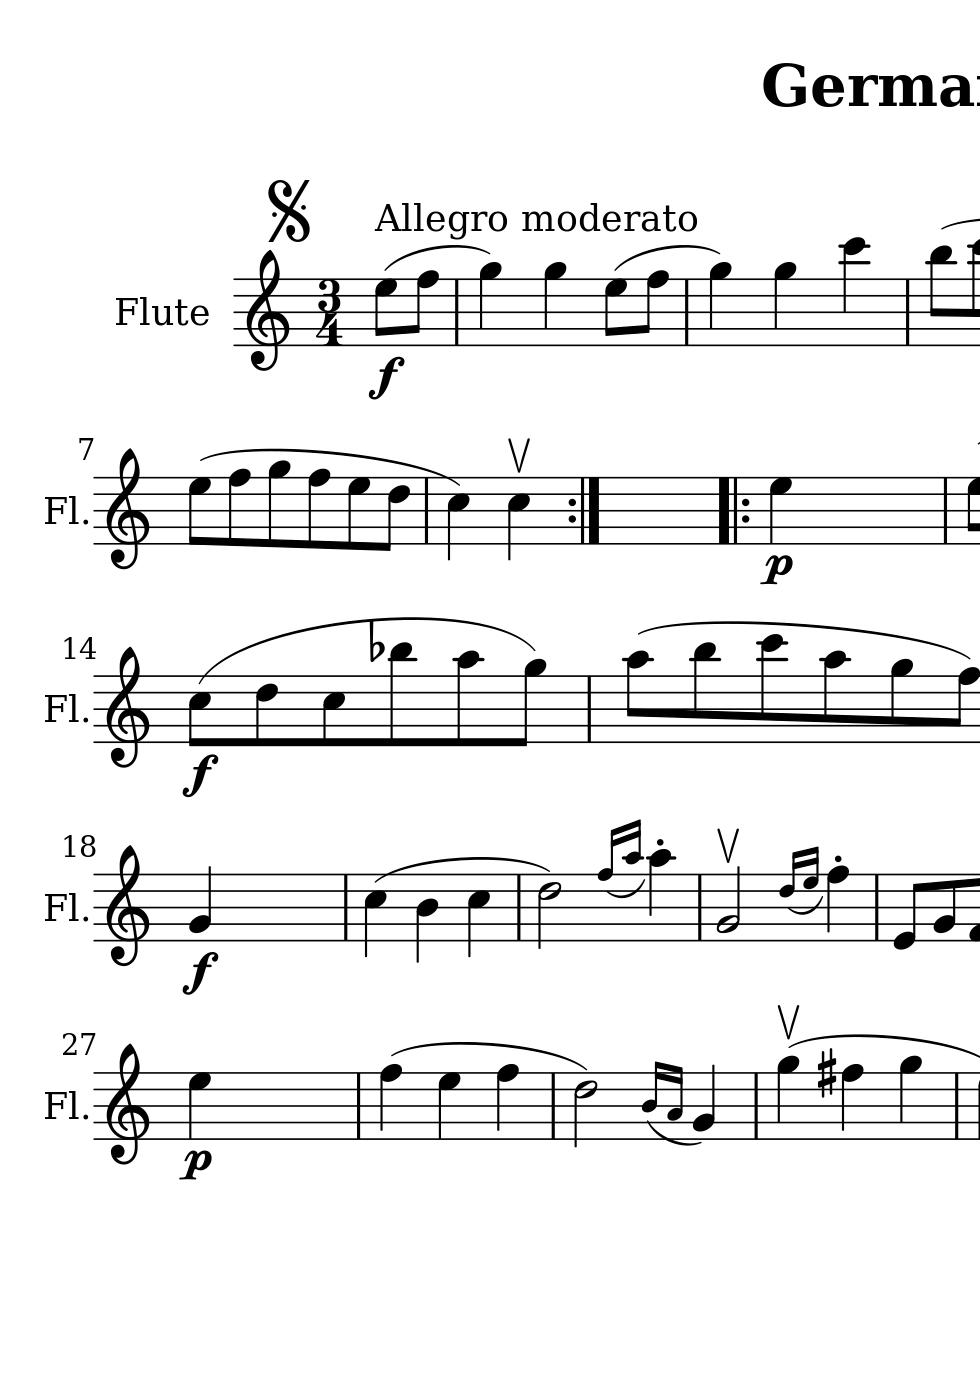1: (62, 831, 76, 860), (62, 634, 76, 662)
2: (60, 1032, 78, 1057)
2_2: (714, 865, 741, 943)
2_6: (571, 1070, 597, 1148), (535, 872, 560, 949)
3: (316, 277, 342, 312)
4: (313, 311, 344, 346), (78, 633, 97, 661)
4_10: (645, 848, 675, 945)
4_12: (838, 236, 870, 350)
4_2: (187, 863, 213, 941), (692, 1062, 716, 1140)
4_4: (413, 873, 439, 967)
4_5: (361, 872, 388, 961), (505, 475, 531, 563), (463, 872, 490, 960), (445, 476, 471, 564)
4_7: (766, 475, 795, 546), (185, 1070, 214, 1141), (435, 1072, 462, 1142)
4_8: (493, 1062, 520, 1142), (377, 1063, 403, 1142), (839, 1063, 865, 1142), (824, 865, 848, 943)
4_9: (771, 261, 799, 349), (541, 261, 567, 348), (706, 261, 733, 348), (897, 1054, 923, 1142), (476, 261, 502, 348), (775, 1054, 800, 1142)
7: (77, 434, 95, 462), (78, 1030, 97, 1057)
8: (78, 831, 97, 860)
8_0: (891, 872, 923, 952)
8_10: (452, 649, 482, 750), (623, 649, 652, 745), (820, 648, 848, 745)
8_11: (387, 641, 415, 750), (927, 243, 956, 348), (690, 641, 718, 745)
8_12: (757, 633, 787, 745)
8_2: (931, 872, 957, 942)
8_5: (320, 674, 346, 749), (187, 674, 211, 749)
8_6: (379, 475, 412, 552), (253, 673, 278, 750)
8_7: (345, 476, 371, 551), (372, 277, 398, 347), (186, 476, 211, 546), (603, 277, 627, 347)
8_8: (408, 269, 441, 348), (638, 268, 670, 348), (948, 664, 979, 745), (226, 467, 252, 548), (305, 467, 331, 550)
8_9: (511, 657, 545, 749), (888, 657, 915, 745), (265, 460, 292, 548)
Appoggiature_2: (595, 819, 645, 940), (778, 846, 821, 942), (641, 1056, 686, 1143)
Fl: (41, 889, 78, 926), (113, 294, 151, 331), (41, 1088, 78, 1124), (42, 691, 78, 727), (41, 492, 78, 527)
Flat: (367, 619, 384, 663)
Gclef: (243, 248, 291, 371), (103, 446, 151, 569), (103, 645, 150, 766), (104, 843, 150, 966), (104, 1043, 150, 1164)
LeftRepeatSign: (715, 476, 751, 546)
RightRepeatSign: (565, 476, 602, 544)
Segno: (263, 174, 312, 243)
Sharp: (815, 1047, 836, 1099)
Single_barline: (898, 278, 917, 346), (937, 476, 956, 544), (545, 1072, 563, 1139), (337, 874, 355, 940), (511, 875, 528, 941), (350, 1073, 367, 1139), (581, 676, 597, 743), (679, 279, 695, 346), (418, 480, 435, 543), (748, 1073, 764, 1139), (949, 1073, 965, 1139), (869, 875, 885, 940), (449, 279, 463, 345), (693, 875, 707, 941)
Slur: (197, 615, 531, 682), (641, 618, 972, 664), (199, 448, 462, 487), (391, 1040, 590, 1074), (369, 859, 549, 883), (385, 242, 491, 267), (615, 242, 715, 268), (646, 1118, 701, 1146), (785, 894, 823, 922), (603, 877, 646, 900)
TimeSig: (312, 278, 347, 347)
Tremolo_bar: (713, 824, 742, 863), (505, 434, 533, 474), (775, 1001, 801, 1040)
f: (366, 356, 405, 402), (181, 752, 220, 799), (181, 950, 220, 996)
p: (178, 1147, 213, 1185), (759, 552, 794, 587)
